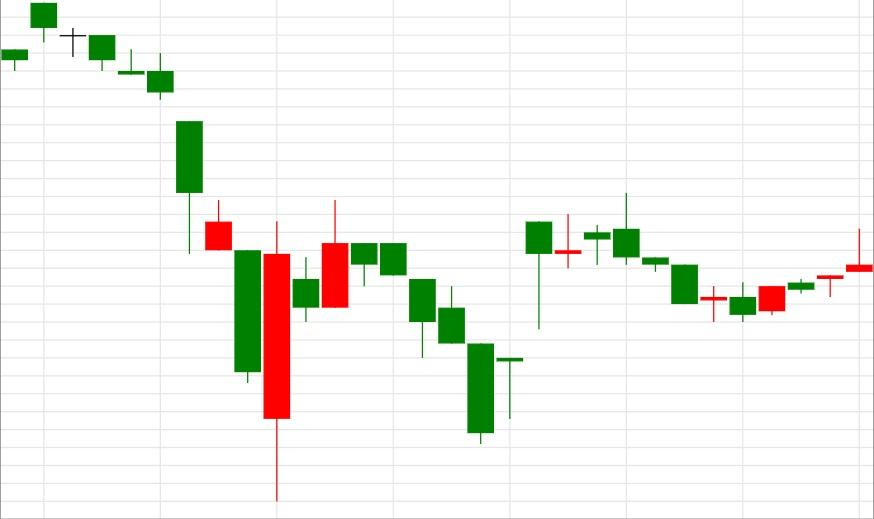bullish_engulfing_rise: (30, 2, 291, 501)
